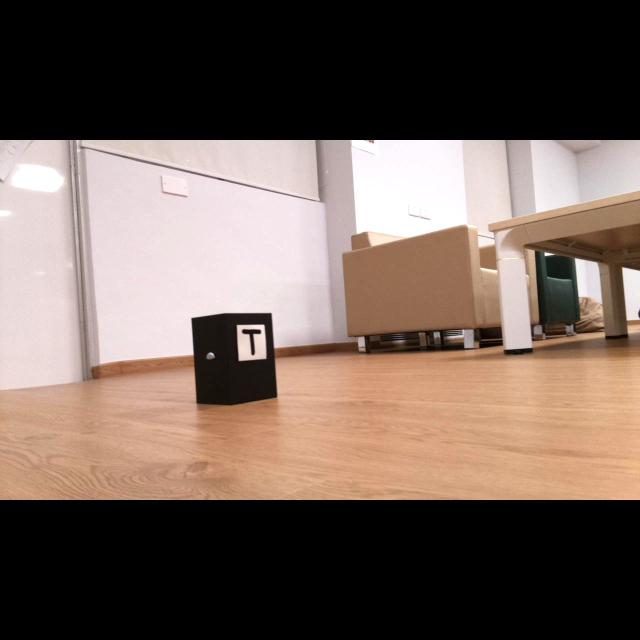T: (242, 329, 262, 356)
